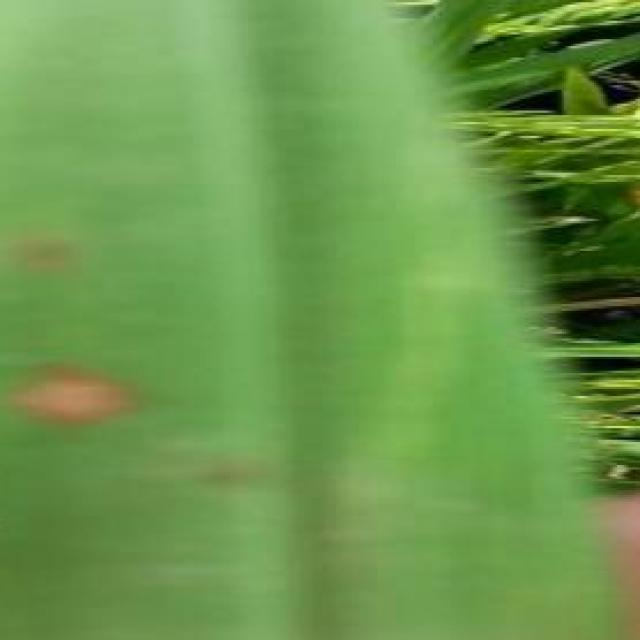Leaf_Blast: (0, 350, 147, 495)
